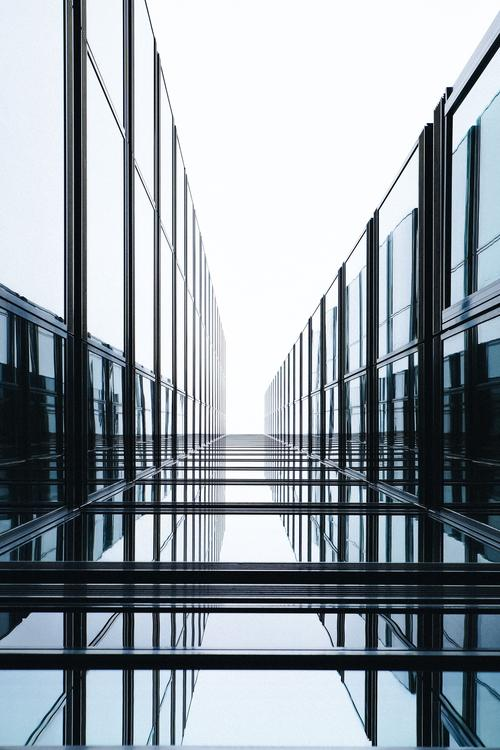buildings: (19, 181, 474, 608), (21, 98, 285, 567), (253, 116, 485, 583)
